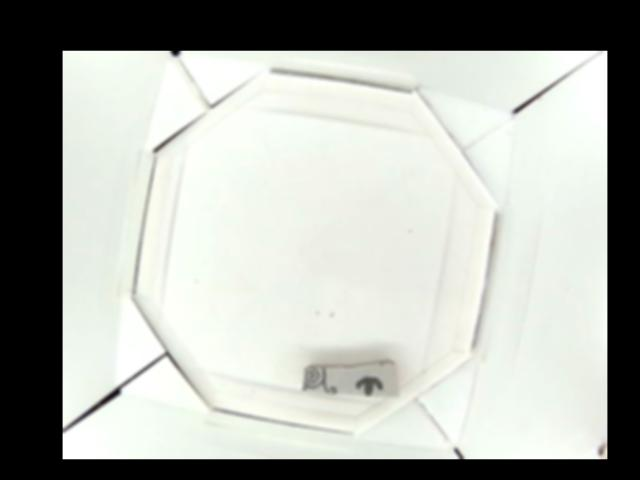China: (300, 360, 398, 396)
